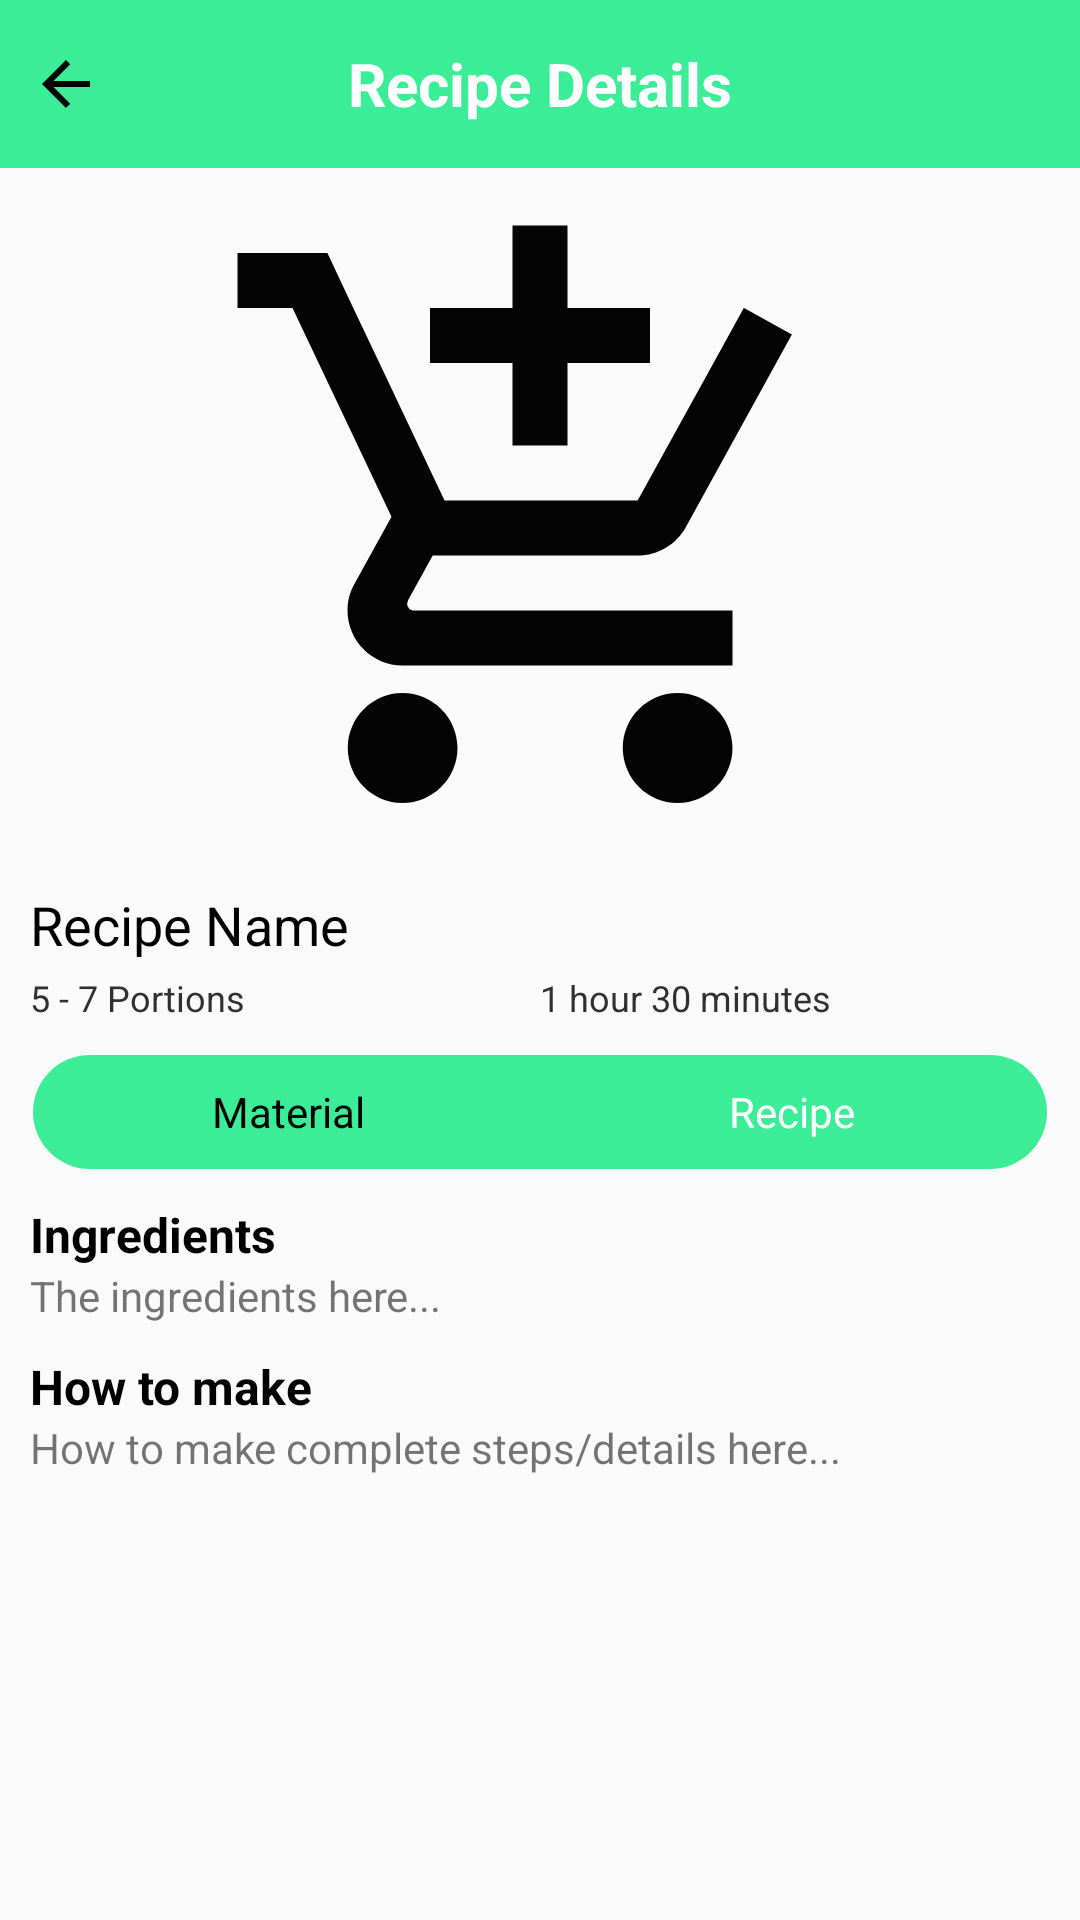

Screen size 1080px×1920px. Icon name, then its center in pixels as [x,y]:
back: [66,84]
